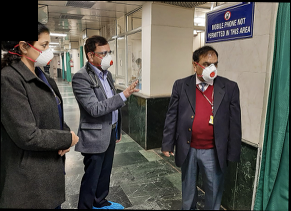with_mask: (29, 38, 54, 68), (197, 58, 219, 82), (94, 48, 114, 71)
